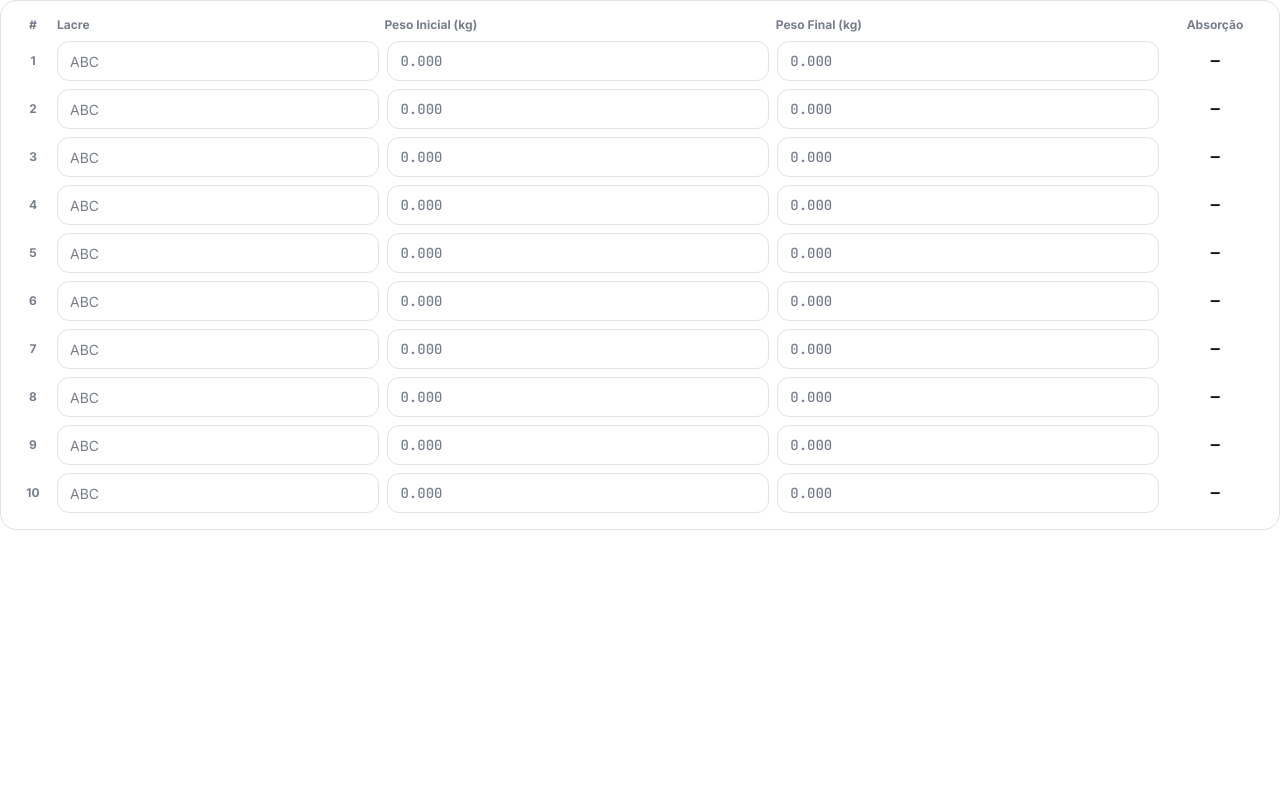
Test case: A) Teste de Absorção de Água — tela › exemplo por SOMA: 7,00% CONFORME em verde, com o título e a saída completa
Type "1.000" into the 1st number field with placeholder "0.000" at (578, 61), box [388, 41, 769, 81]
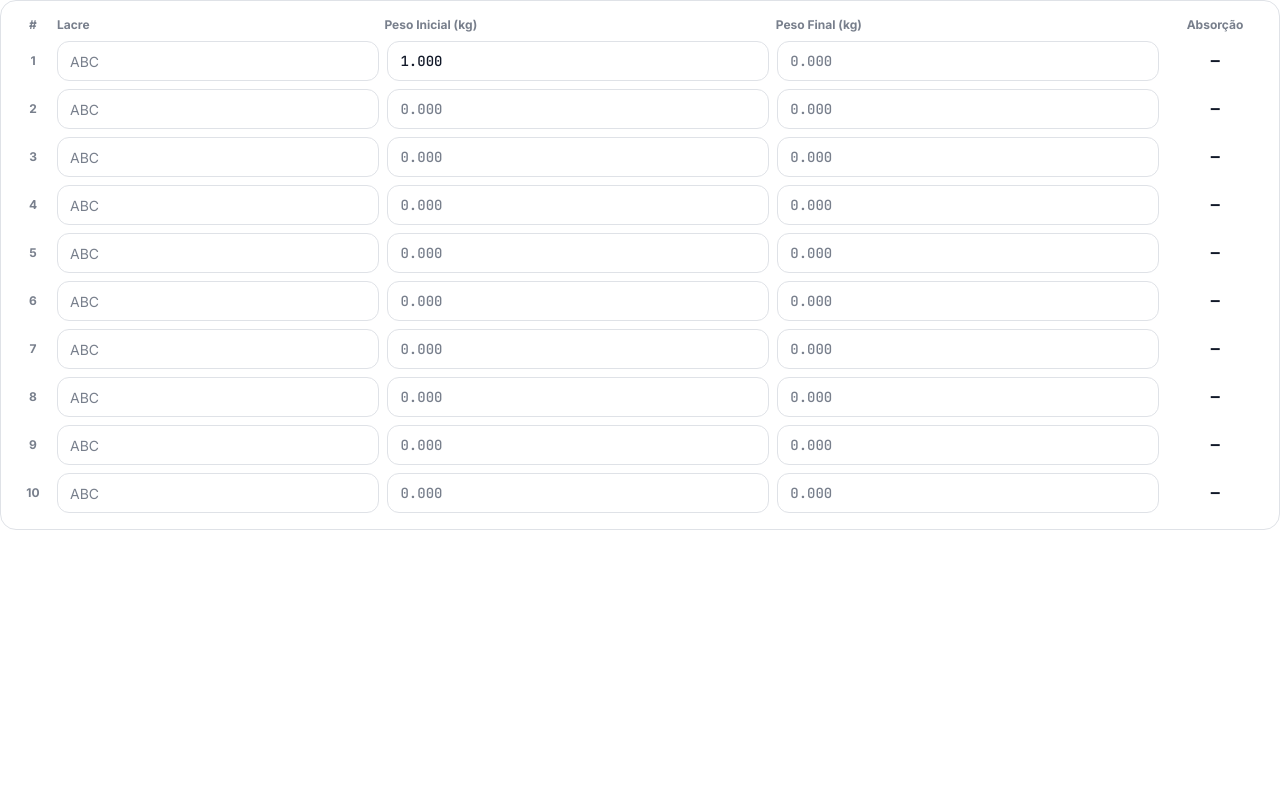
Type "1.150" into the 1st number field with placeholder "0.000" at (968, 61), box [777, 41, 1159, 81]
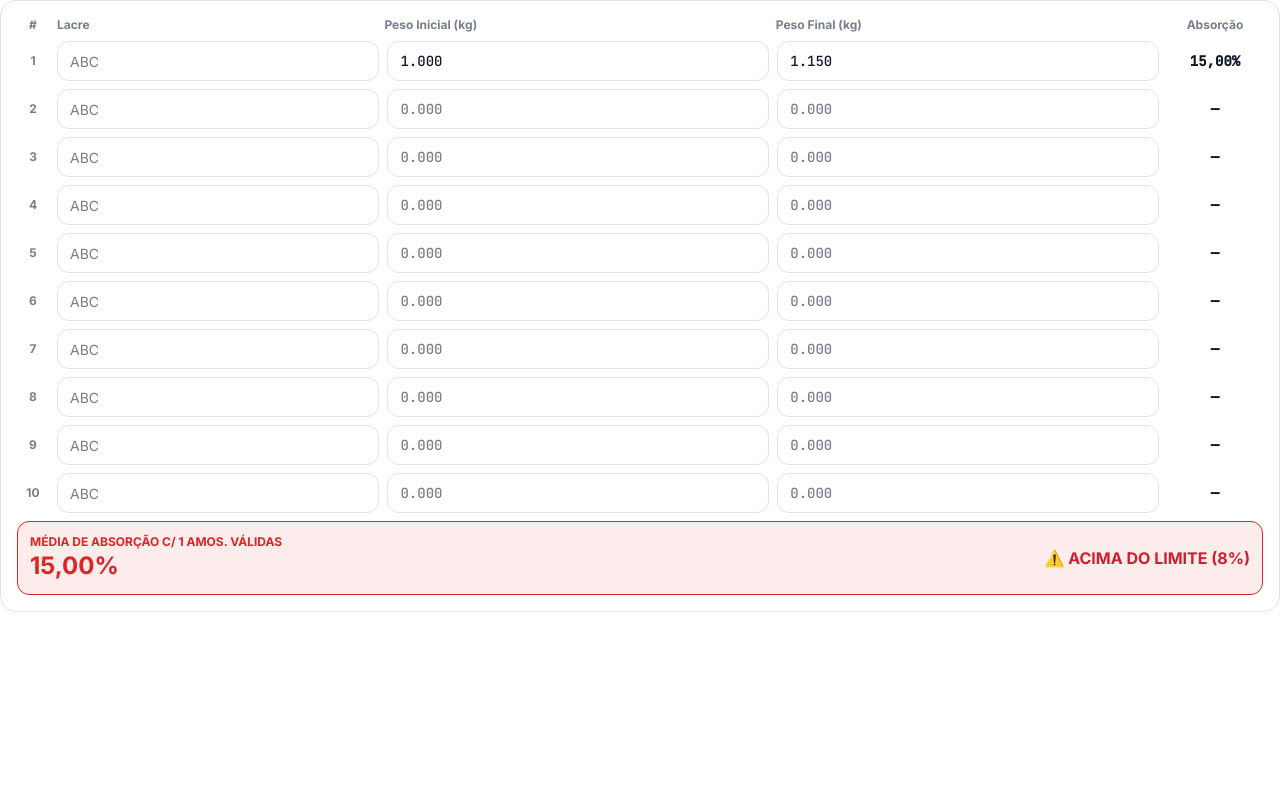
Type "4.000" into the 1st number field with placeholder "0.000" at (578, 109), box [388, 89, 769, 129]
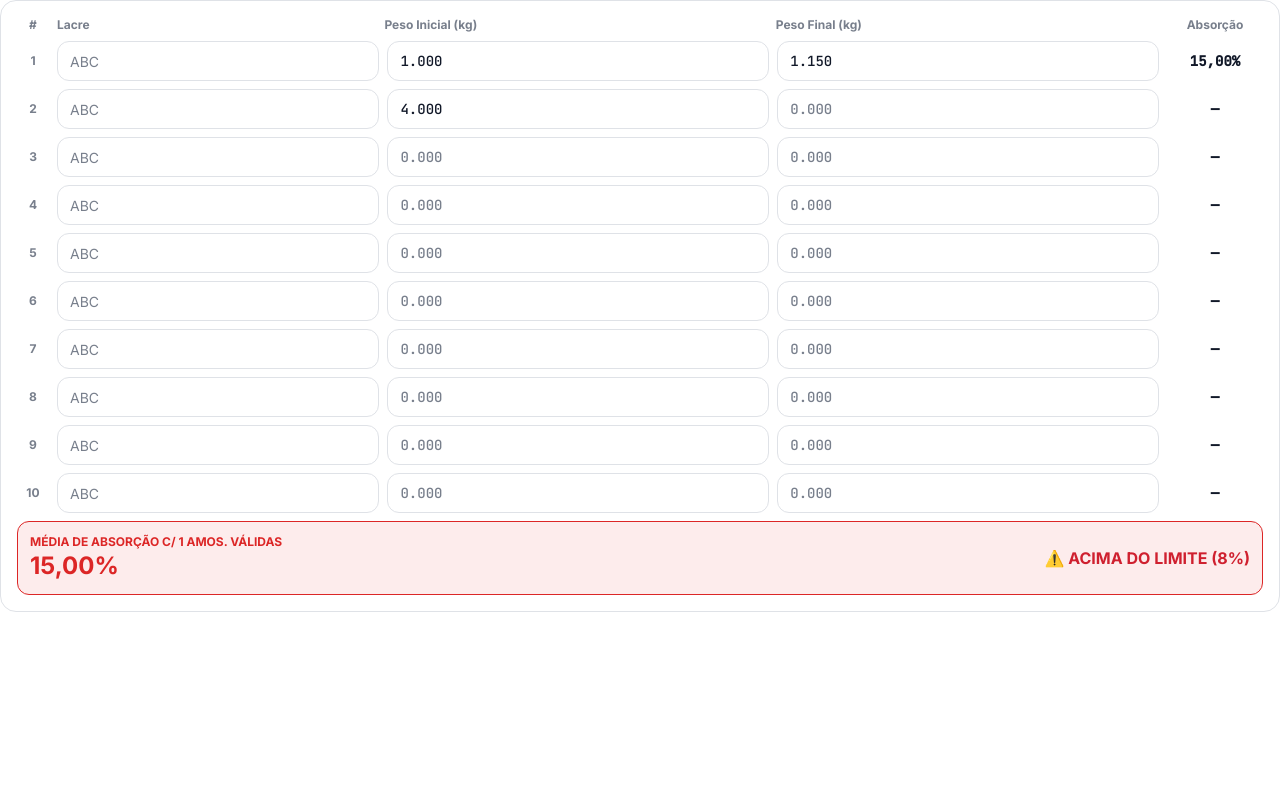
Type "4.200" into the 1st number field with placeholder "0.000" at (968, 109), box [777, 89, 1159, 129]
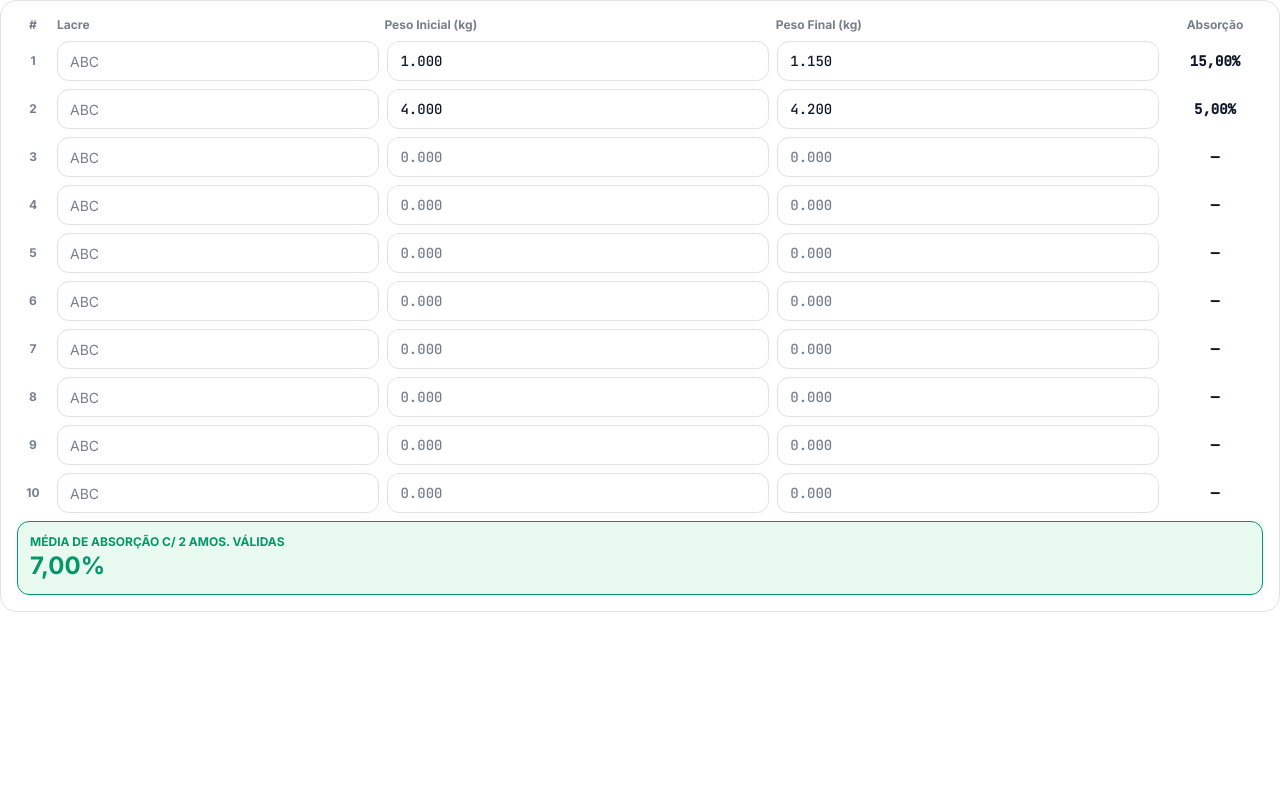
Expected: the text "MÉDIA DE ABSORÇÃO C/ 2 AMOS. VÁLIDAS" is shown, [30, 534, 284, 550]
Expected: the text with test id "media-absorcao" reads "7,00%", [30, 551, 105, 580]
Expected: the text "ACIMA DO LIMITE" is gone
